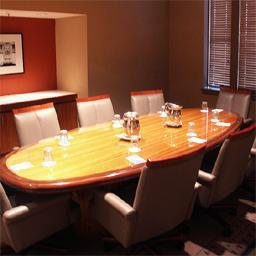Ventana: (212, 6, 255, 92)
